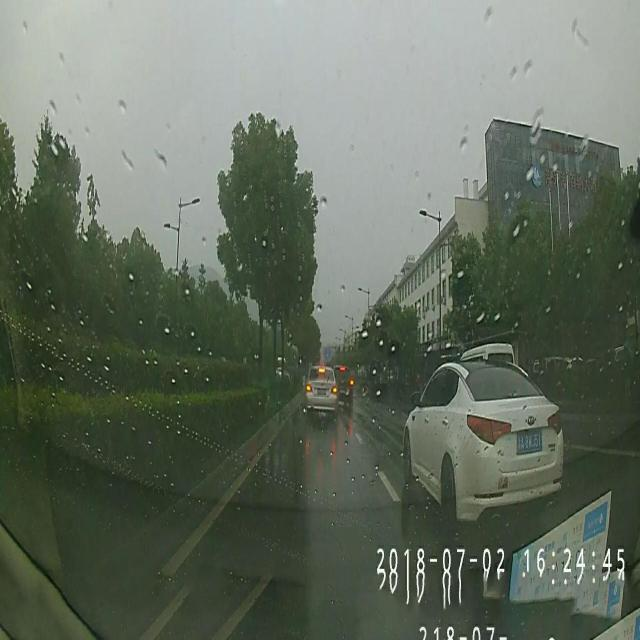car: (403, 358, 565, 524), (306, 364, 338, 414), (330, 362, 354, 402)
